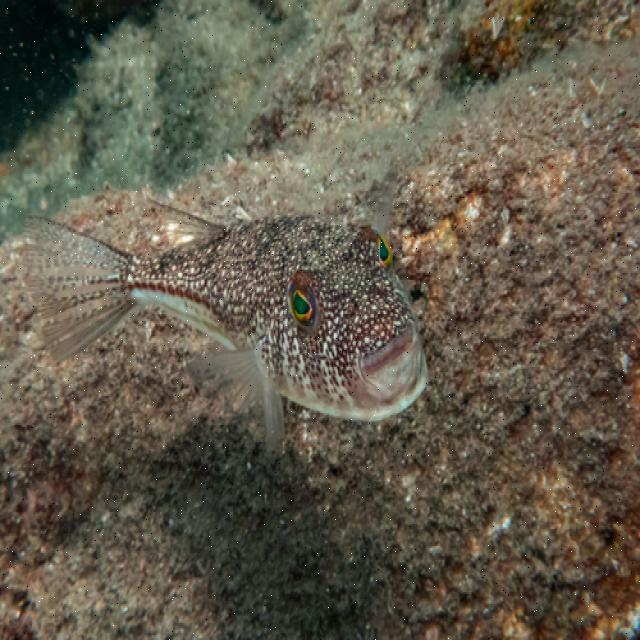Balik: (27, 217, 427, 448)
